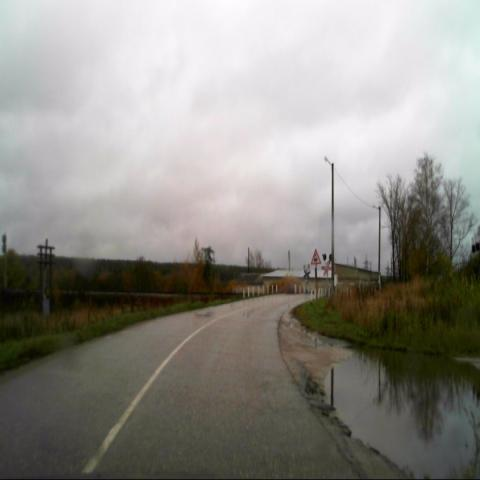1_2: (311, 248, 320, 265)
